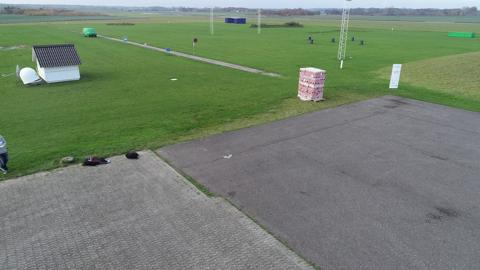RockwoolPallet: (297, 66, 327, 102)
